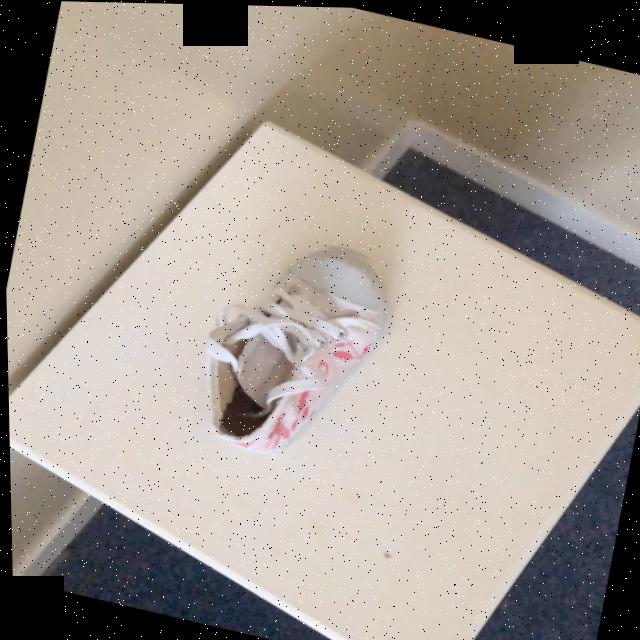shoe: (203, 247, 388, 455)
